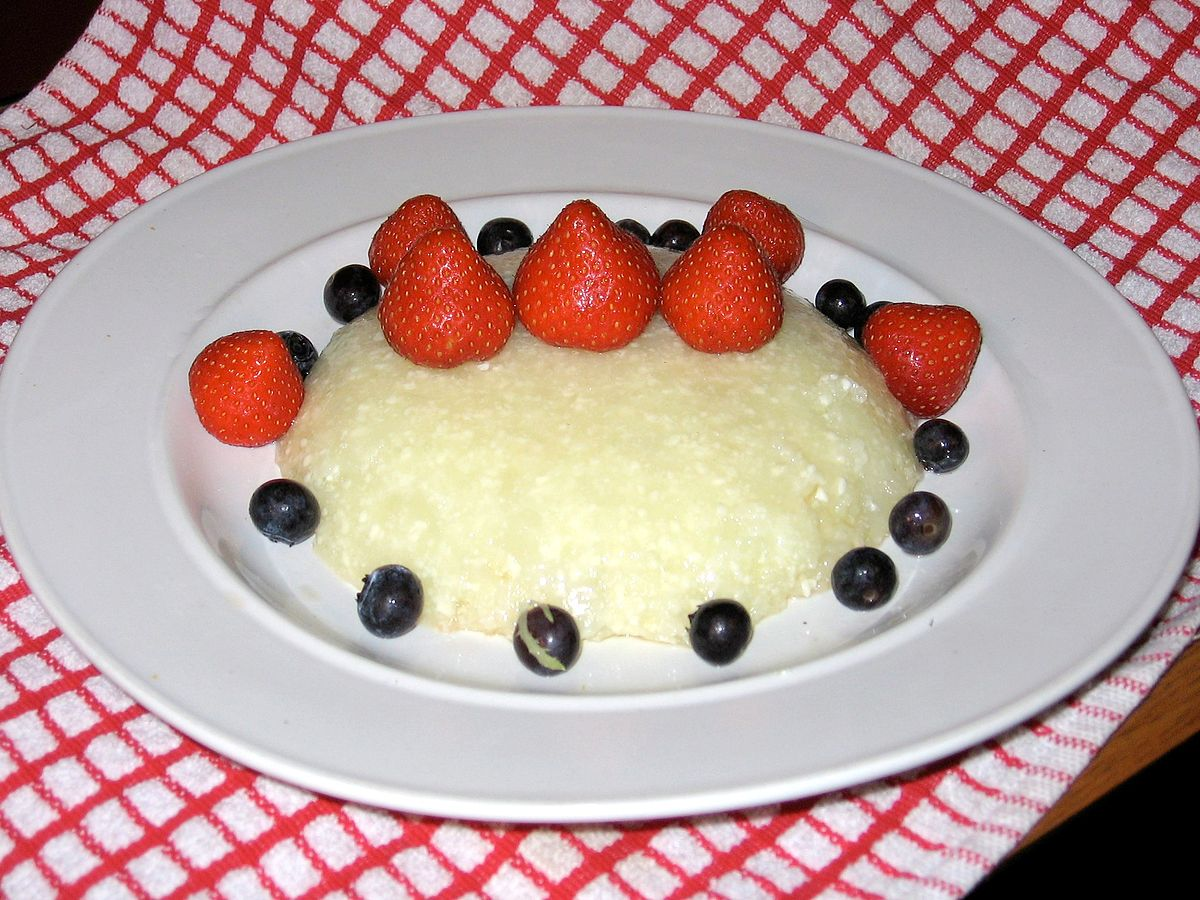cheese: (358, 388, 783, 565)
